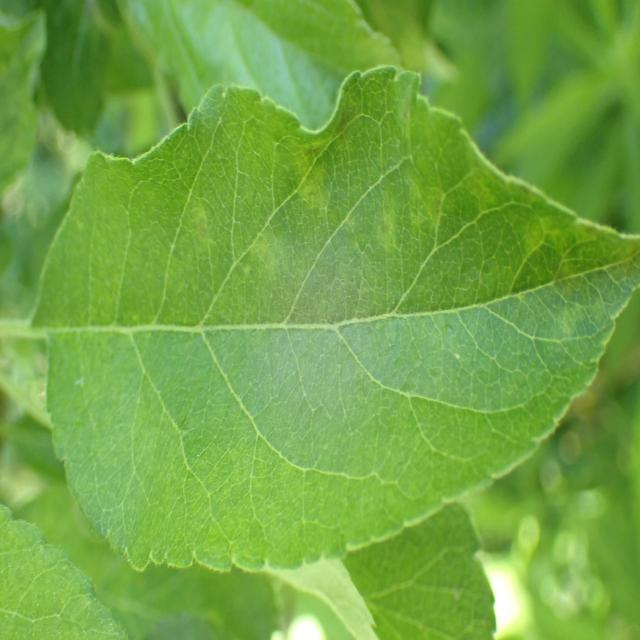scab: (69, 83, 640, 462)
